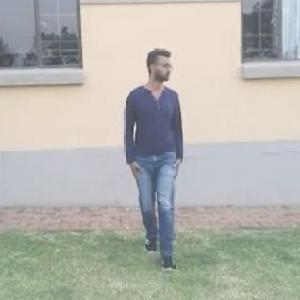follow: (117, 36, 193, 276)
